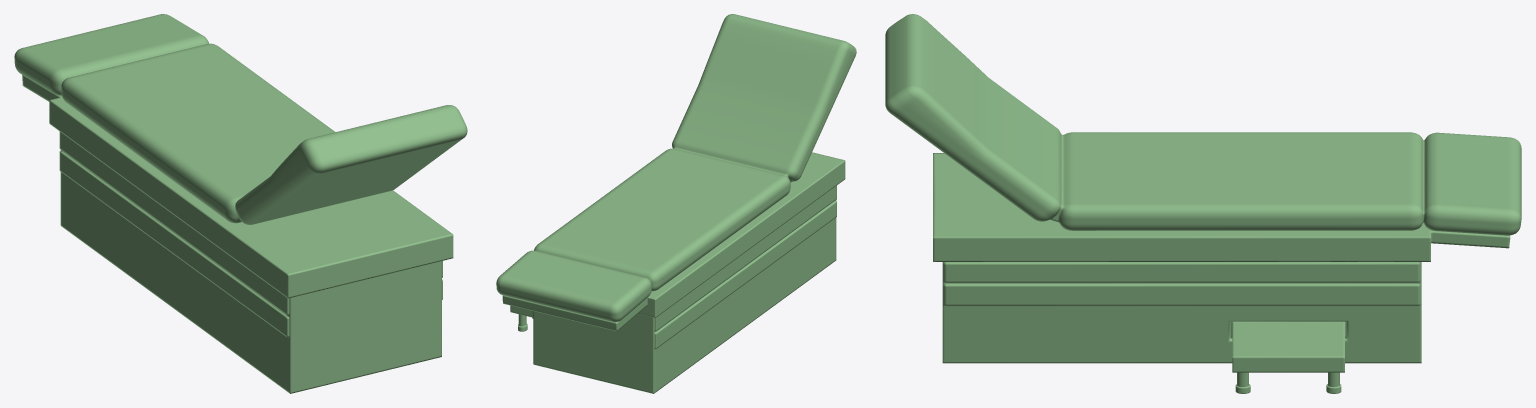
The model's file is leito.fbx.
3 views of the same model, side by side, from view 1: azimuth 30°, elevation 25°; view 2: azimuth 150°, elevation 25°; view 3: azimuth 270°, elevation 25° (orthographic). The views are drawn at different scales.
Visible parts, largest first — view 1: leito; view 2: leito; view 3: leito.
Part boxes in pixels (<box>): leito: <box>14,14,467,393</box>; leito: <box>496,14,856,393</box>; leito: <box>885,14,1521,393</box>.
Size of the model in its own units: 82.92 by 93.02 by 195.
